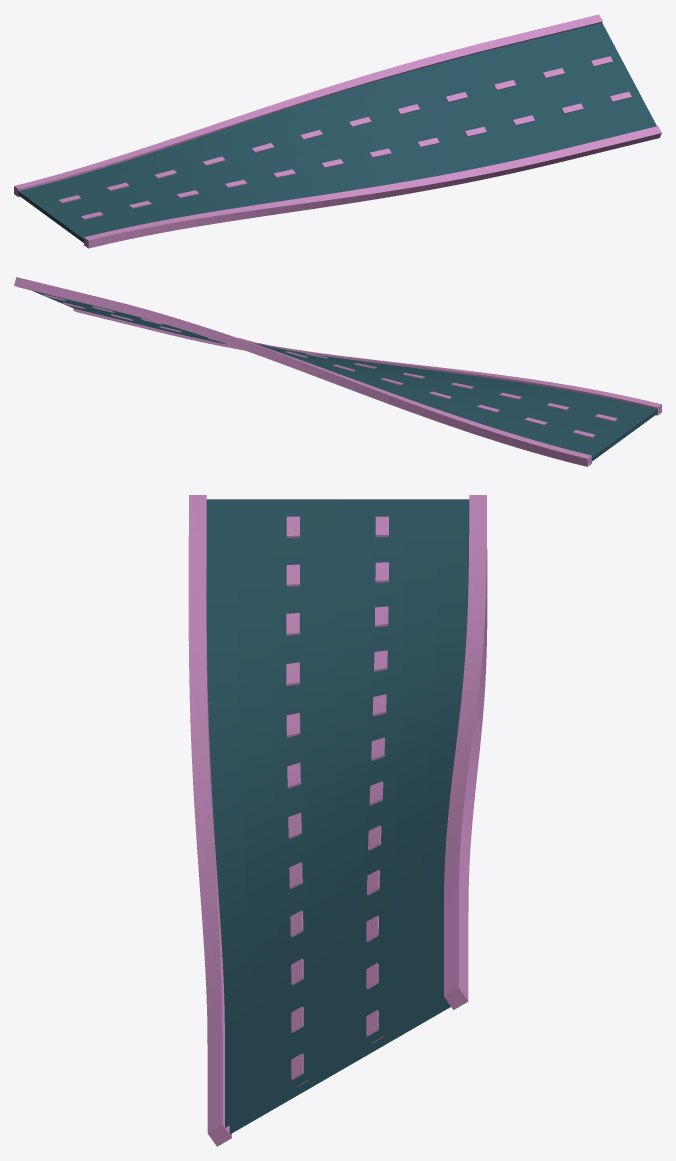
The model's file is weg8.obj.
The picture shows the model from 3 angles, top to bottom: view 1: azimuth 30°, elevation 25°; view 2: azimuth 150°, elevation 25°; view 3: azimuth 270°, elevation 25°; orthographic projection. The views are drawn at different scales.
Parts seen in each view (by area): view 1: Cube.001; view 2: Cube.001; view 3: Cube.001.
Part boxes in pixels (x1,y1,x2,y2): Cube.001: (14, 14, 661, 248); Cube.001: (14, 277, 661, 466); Cube.001: (188, 495, 487, 1146).
Size of the model in its own units: 60 by 7.88 by 13.42.
32 materials, 32 textured.
